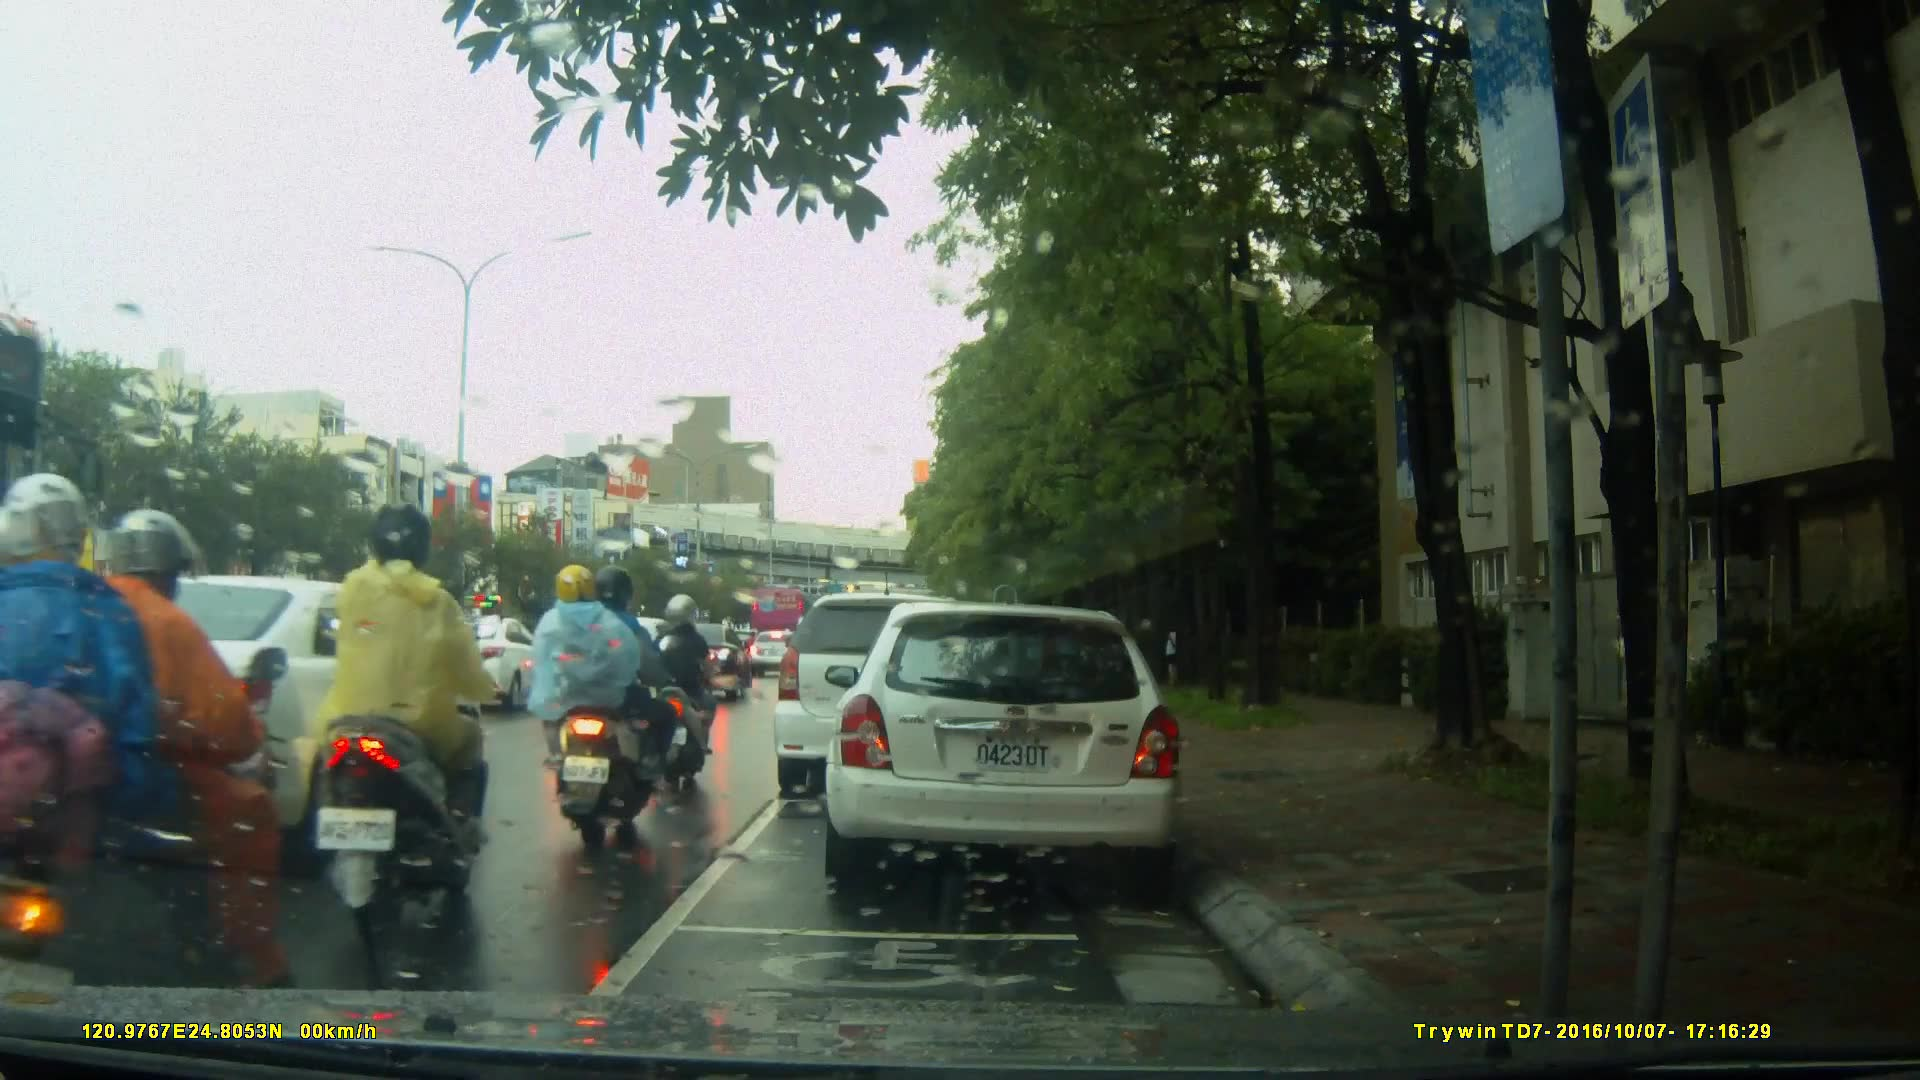rider: (1, 468, 306, 1039), (295, 498, 501, 941), (528, 560, 676, 848), (621, 591, 720, 811)
vehicle: (26, 573, 457, 836), (835, 594, 1194, 898), (776, 590, 1026, 784), (642, 625, 756, 704)
